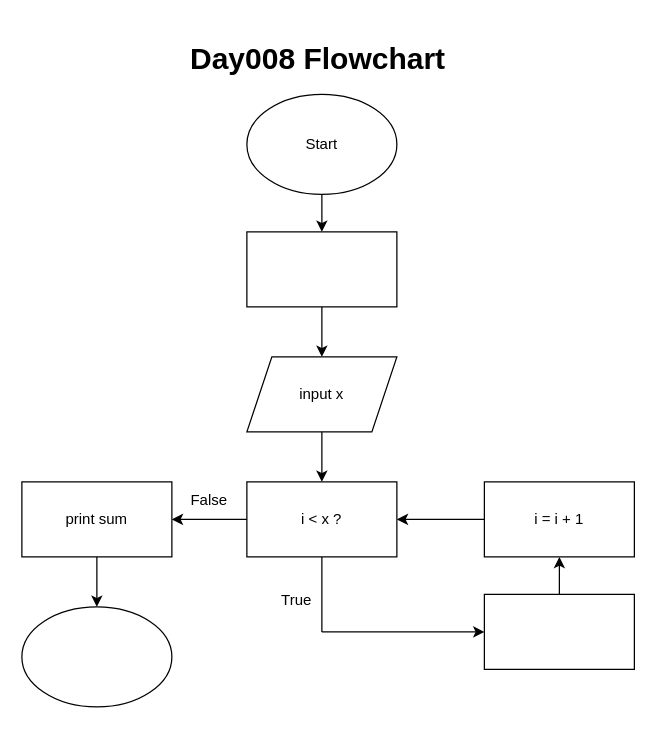
Some shapes in this 656 by 729 pixel diagram are drawn without their labels. Here are the shapes that lost their labels. From the top down, the centre of each, then its label:
At point 321,269: "i = 0 sum = 0".
At point 558,631: "sum = sum + i".
At point 96,656: "Stop".
